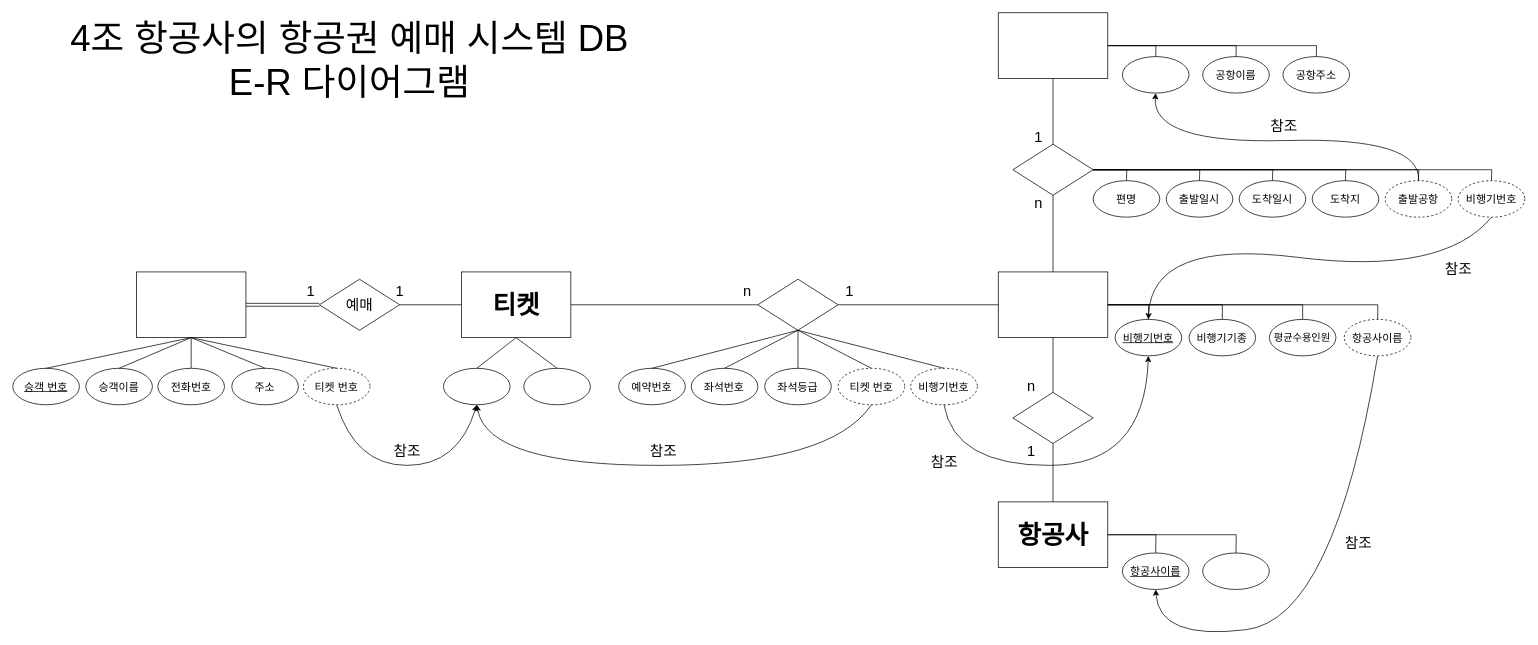
The diagram is 1538 pixels wide and 645 high, and some of its shapes have lost their labels. The centre of each missing label's shape, as x and y in pixels:
공항: point 1053,45
공항코드: point 1155,74
배정: point 797,304
비행기: point 1053,304
승객: point 191,304
운항: point 1052,417
일정: point 1052,169
탑승게이트: point 556,386
티켓번호: point 476,386
항공사주소: point 1235,570
